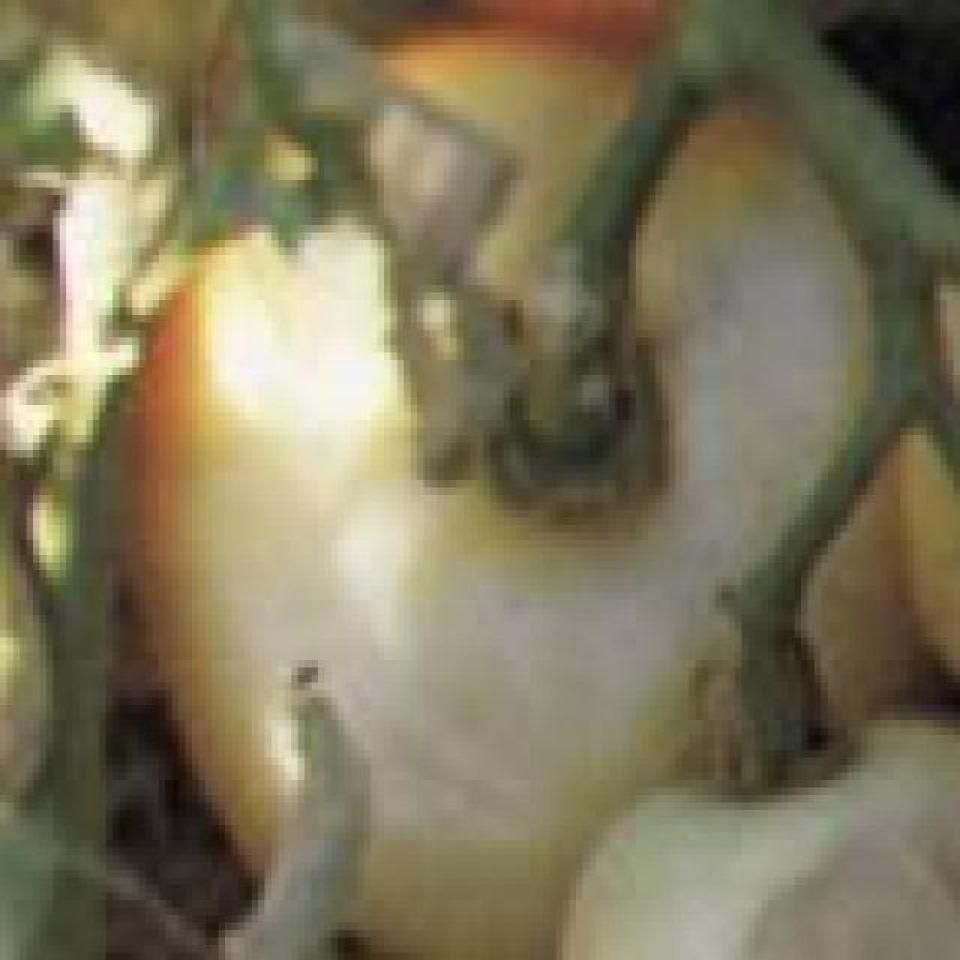Sunscald: (249, 255, 786, 863), (715, 776, 953, 949)
